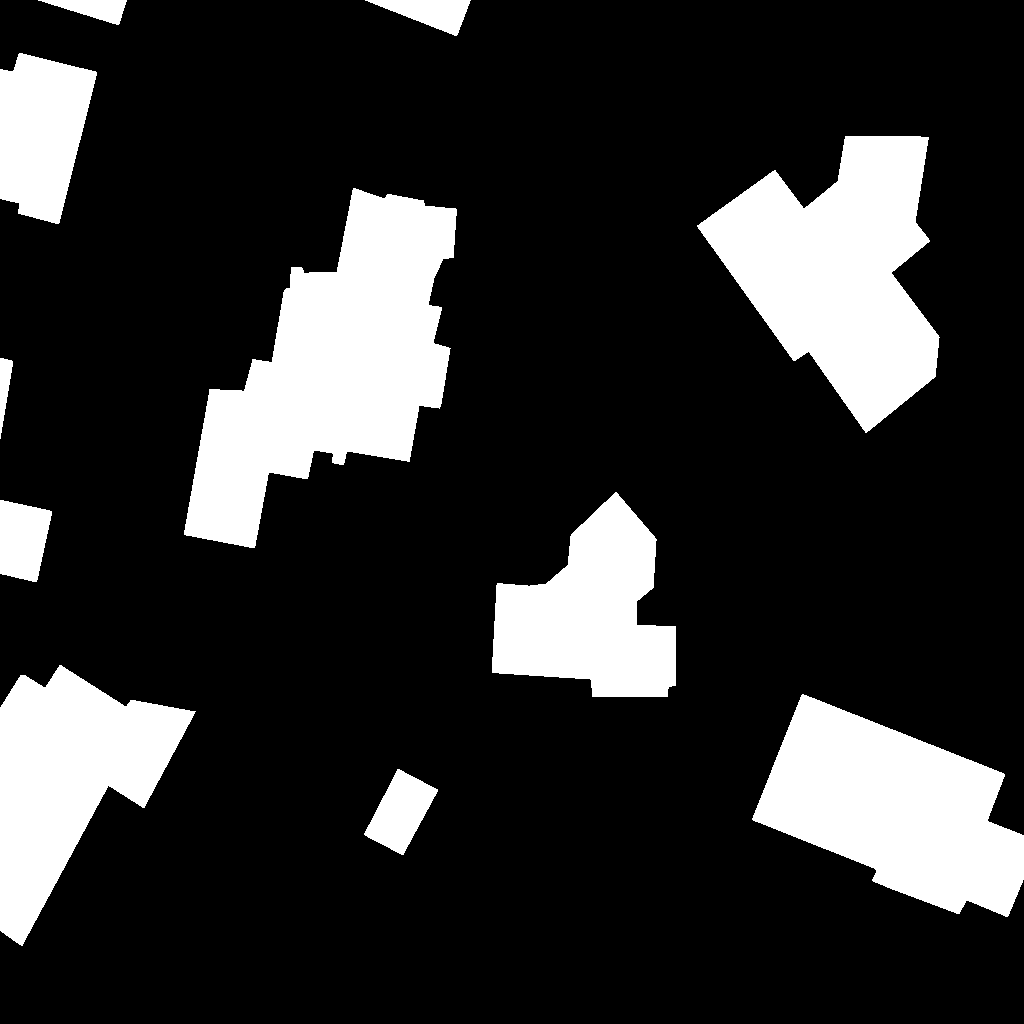building: (184, 188, 458, 549), (697, 136, 940, 434), (752, 694, 1024, 918), (0, 665, 197, 947), (492, 492, 676, 697), (0, 53, 98, 225), (0, 358, 53, 583), (364, 769, 439, 856), (364, 0, 472, 37), (37, 0, 128, 26)
